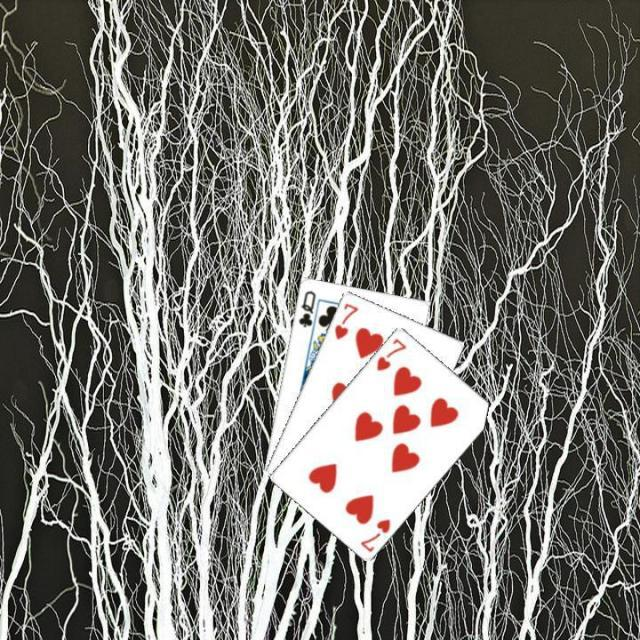7H: (356, 514, 392, 554), (372, 334, 408, 372), (330, 298, 360, 342)
QC: (294, 286, 318, 329)
